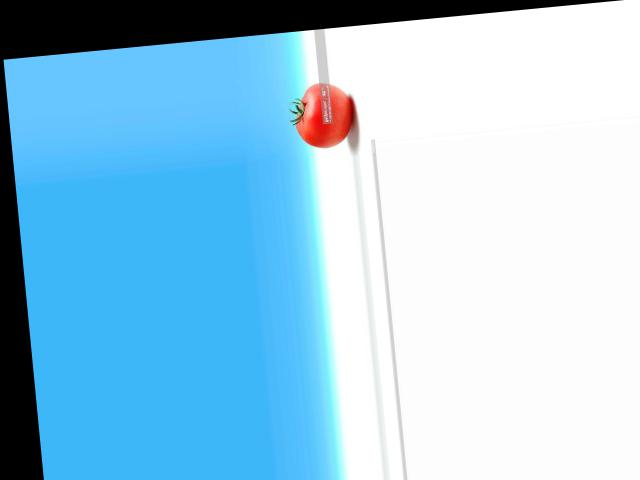tomato: (292, 79, 354, 149)
